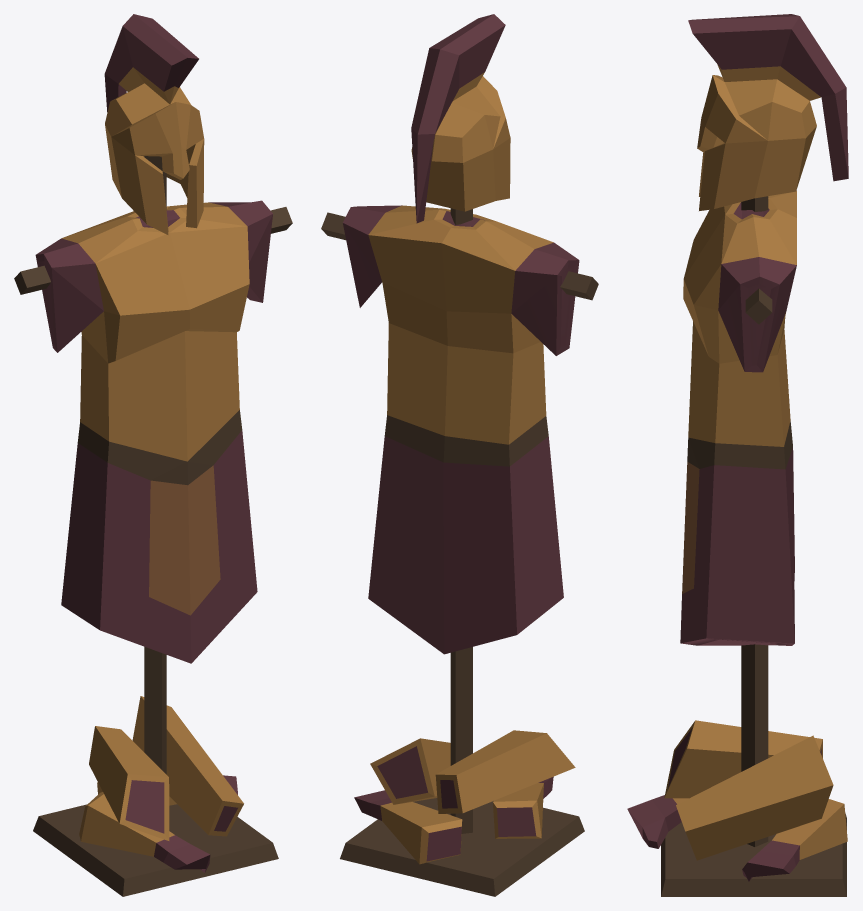
File: empire-armor-stand-spartan-empire.glb
The picture shows the model from 3 angles, left to right: view 1: azimuth 30°, elevation 25°; view 2: azimuth 150°, elevation 25°; view 3: azimuth 270°, elevation 25°; orthographic projection. The views are drawn at different scales.
Visible parts, largest first — view 1: SM_Armor_Stand_Spartan_Empire; view 2: SM_Armor_Stand_Spartan_Empire; view 3: SM_Armor_Stand_Spartan_Empire.
Boxes of the visible parts, x1,y1,x2,y2 form: SM_Armor_Stand_Spartan_Empire: (14,14,292,896); SM_Armor_Stand_Spartan_Empire: (321,14,598,896); SM_Armor_Stand_Spartan_Empire: (627,14,848,896).
Bounding box in the file's own units: 0.6689 × 1.96 × 0.4678.
